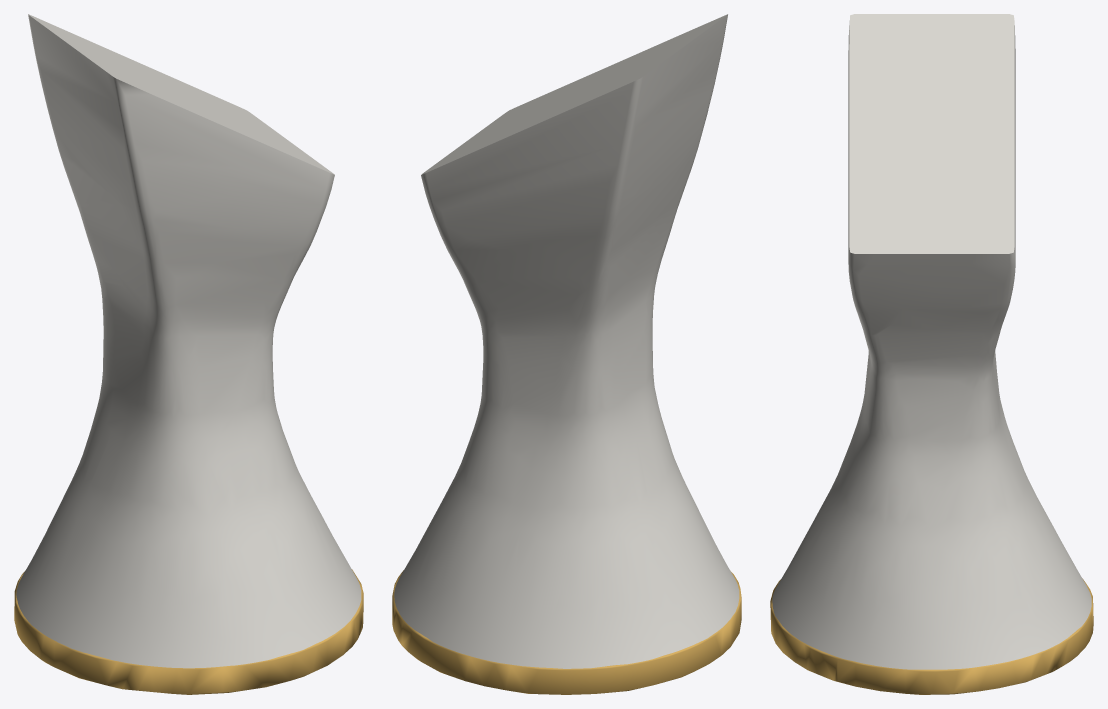
Rendered from 03_jezdec_bila.glb.
The picture shows the model from 3 angles, left to right: view 1: azimuth 30°, elevation 25°; view 2: azimuth 150°, elevation 25°; view 3: azimuth 270°, elevation 25°; orthographic projection. The views are drawn at different scales.
Visible parts, largest first — view 1: 03_jezdec_telo_0, 03_jezdec_podstavec; view 2: 03_jezdec_telo_0, 03_jezdec_podstavec; view 3: 03_jezdec_telo_0, 03_jezdec_podstavec.
Boxes of the visible parts, bbox=[...] form: 03_jezdec_telo_0: bbox=[16, 14, 361, 668]; 03_jezdec_podstavec: bbox=[14, 569, 363, 694]; 03_jezdec_telo_0: bbox=[394, 14, 739, 668]; 03_jezdec_podstavec: bbox=[392, 570, 741, 694]; 03_jezdec_telo_0: bbox=[772, 14, 1091, 669]; 03_jezdec_podstavec: bbox=[770, 578, 1093, 694].
Bounding box in the file's own units: 0.044 × 0.084 × 0.044.
